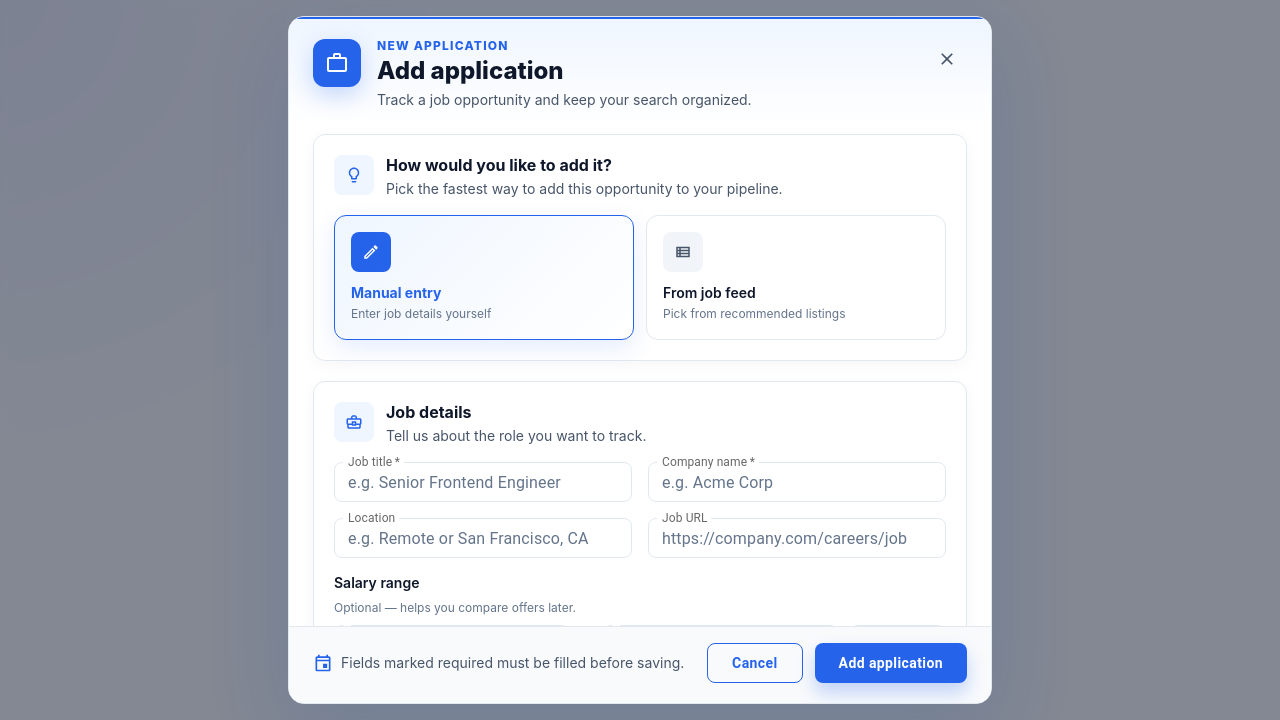
Scenario: AddApplicationDialog › switches to job feed picker mode with dynamic match scores
This screenshot has width=1280, height=720.
What coordinates should you click on to do the following:
click the tab "From job feed Pick from recommended listings"
I would click on:
 (683, 252)
Its box is x1=646 y1=215 x2=946 y2=340.
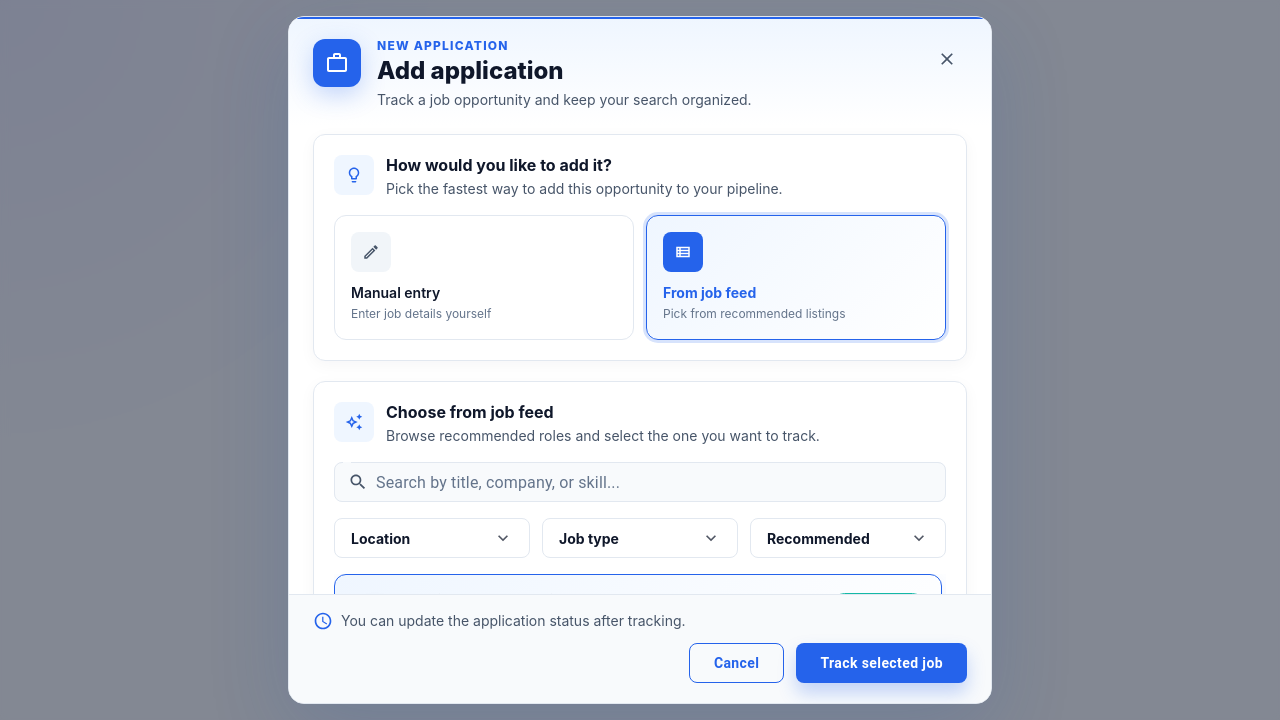
Check: the field with placeholder "Search by title, company, or skill..." is shown, box x1=376 y1=471 x2=946 y2=494
Check: the button "Track selected job" is shown, box x1=796 y1=643 x2=967 y2=683
Check: the text "You can update the application status after tracking." is shown, box x1=313 y1=611 x2=686 y2=631
